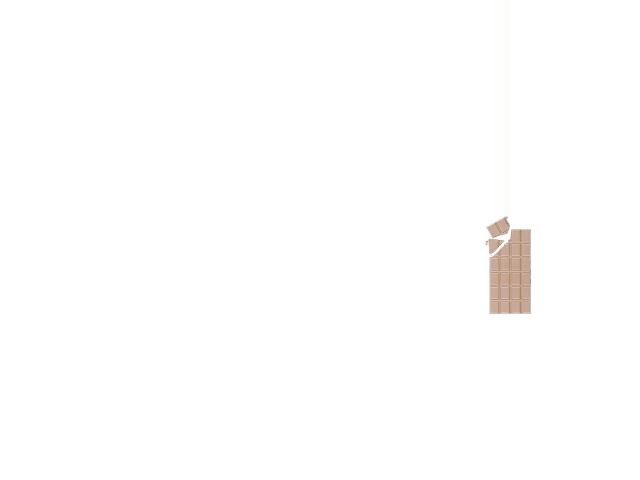chocolate: (476, 215, 537, 315)
